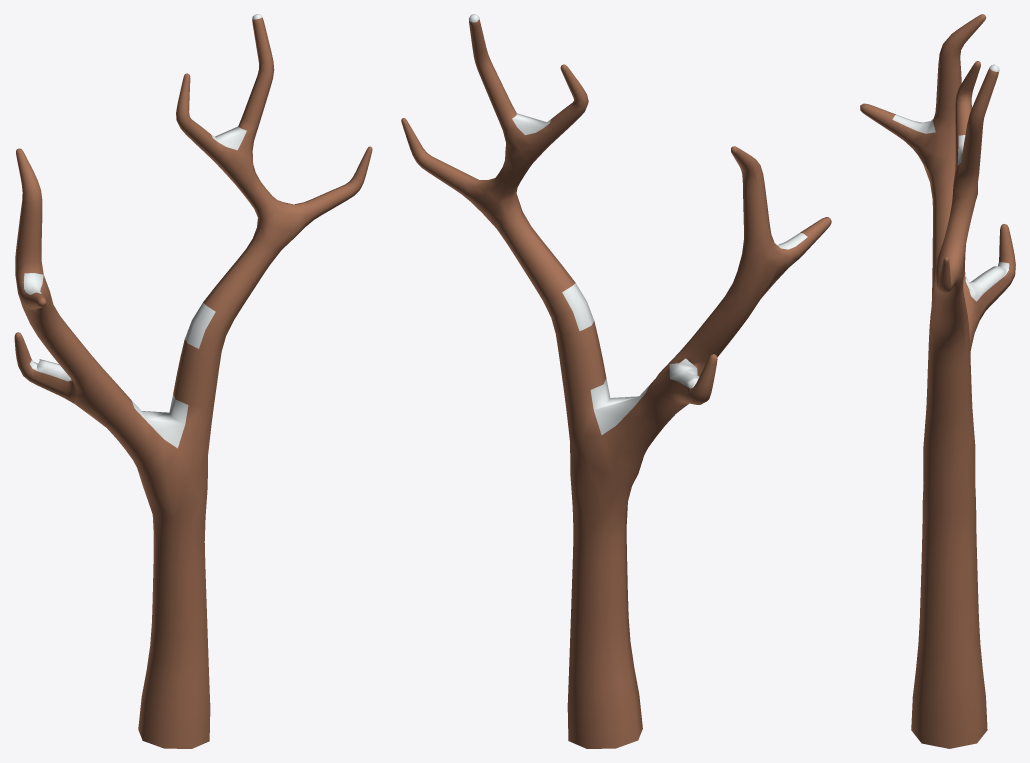
The model's file is Tree Small 1.fbx.
3 views of the same model, side by side, from view 1: azimuth 30°, elevation 25°; view 2: azimuth 150°, elevation 25°; view 3: azimuth 270°, elevation 25° (orthographic). The views are drawn at different scales.
Parts seen in each view (by area): view 1: Tree Small 1; view 2: Tree Small 1; view 3: Tree Small 1.
Boxes of the visible parts, x1,y1,x2,y2 form: Tree Small 1: (14,14,372,748); Tree Small 1: (401,14,831,748); Tree Small 1: (860,14,1015,748).
Size of the model in its own units: 690 by 1209 by 236.
